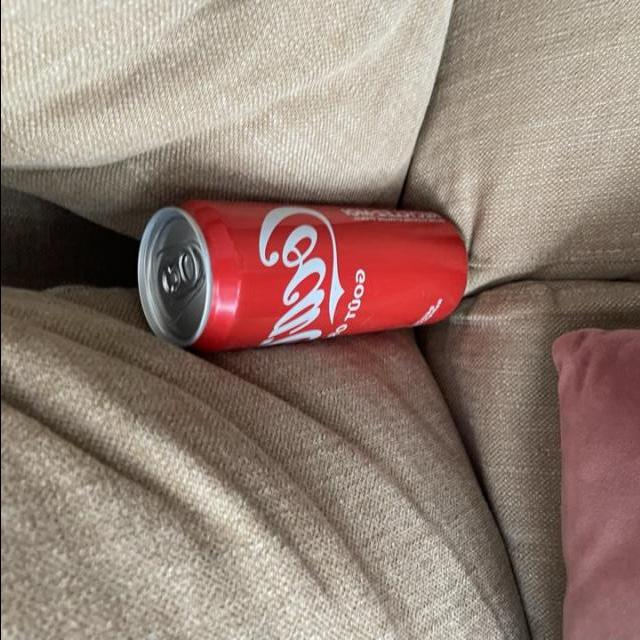can: (121, 195, 478, 362)
